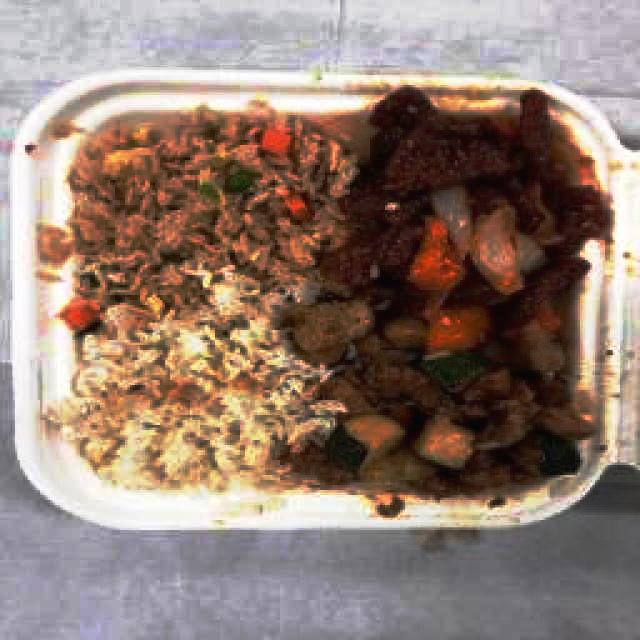Beijing Beef: (353, 89, 581, 317)
Fried Rice: (78, 122, 303, 262)
Kung Pao Chicken: (324, 308, 585, 481)
rice: (88, 325, 287, 487)
